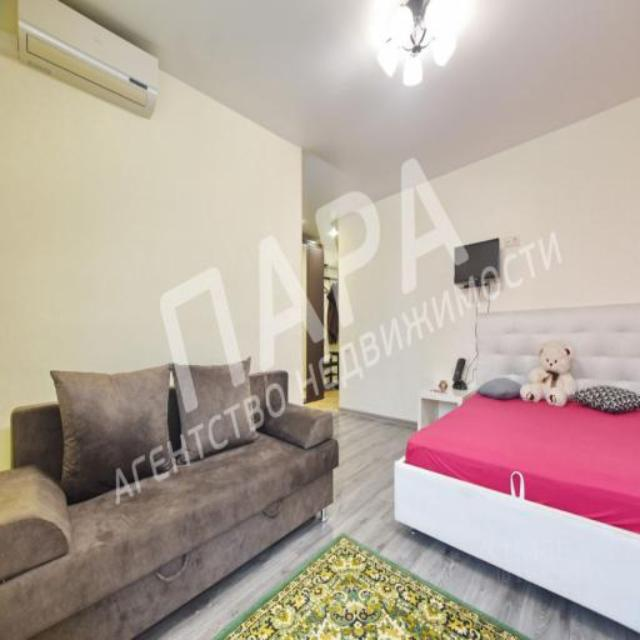Flat-Panel-TV: (454, 238, 500, 290)
